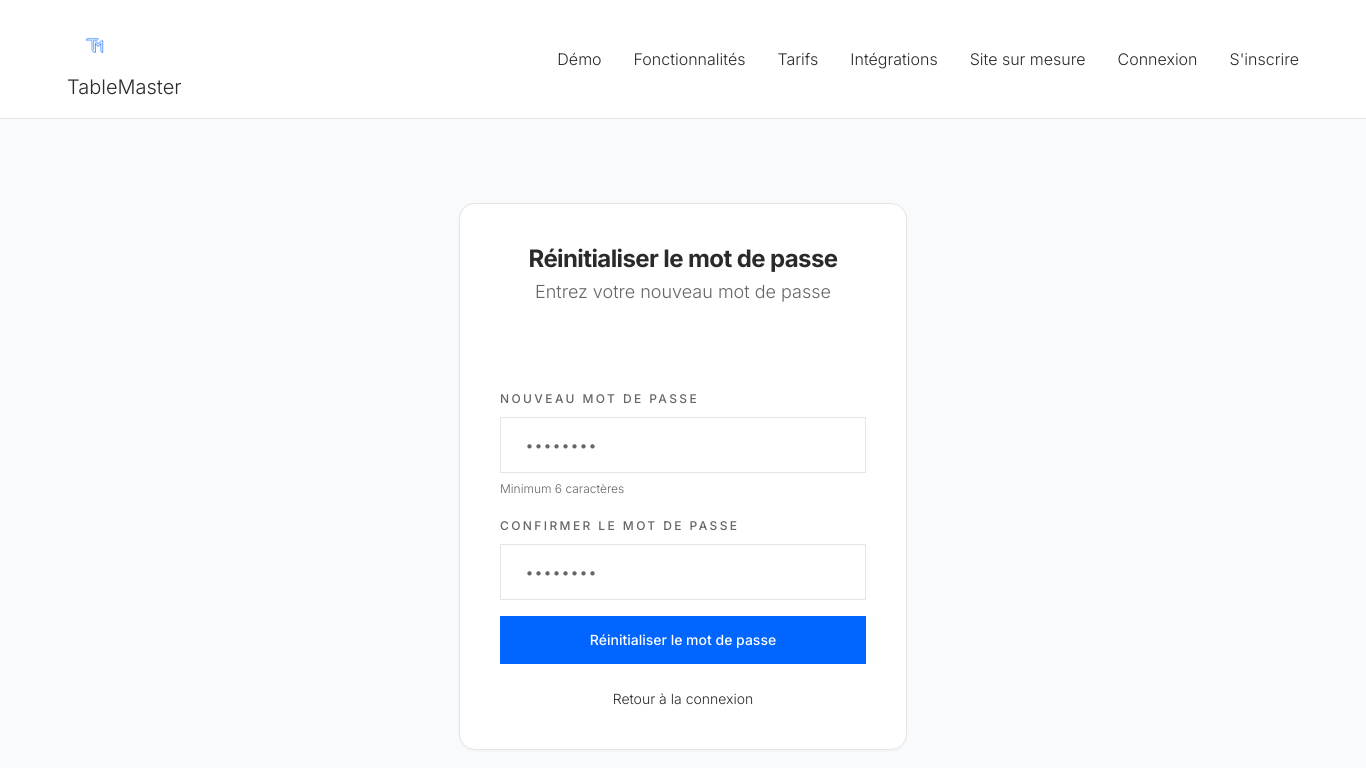
Test: Reset Password Page › should validate password confirmation
Type "newPassword123" into the password field with placeholder "••••••••" at coordinates (683, 444), box [500,416,866,472]
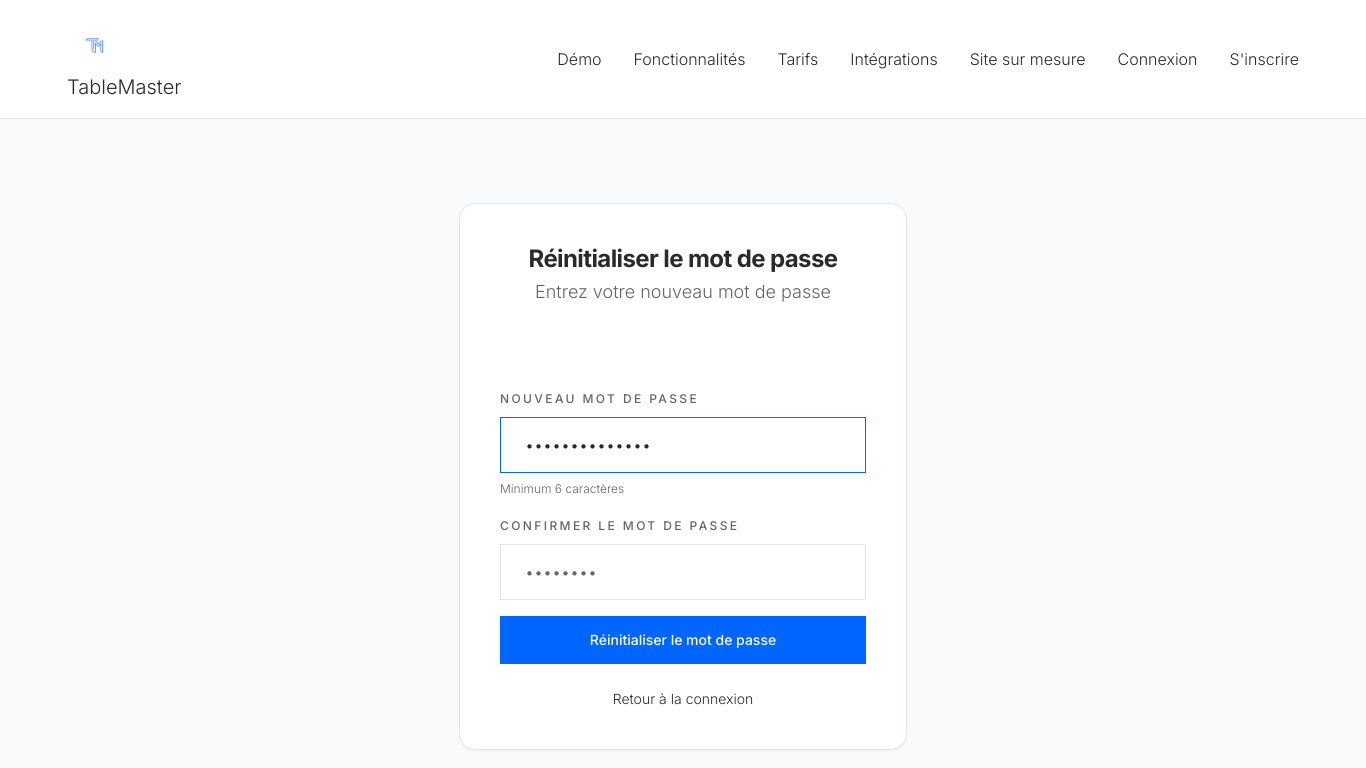
Type "differentPassword" into the password field with placeholder "••••••••" at coordinates (683, 572), box [500,544,866,600]
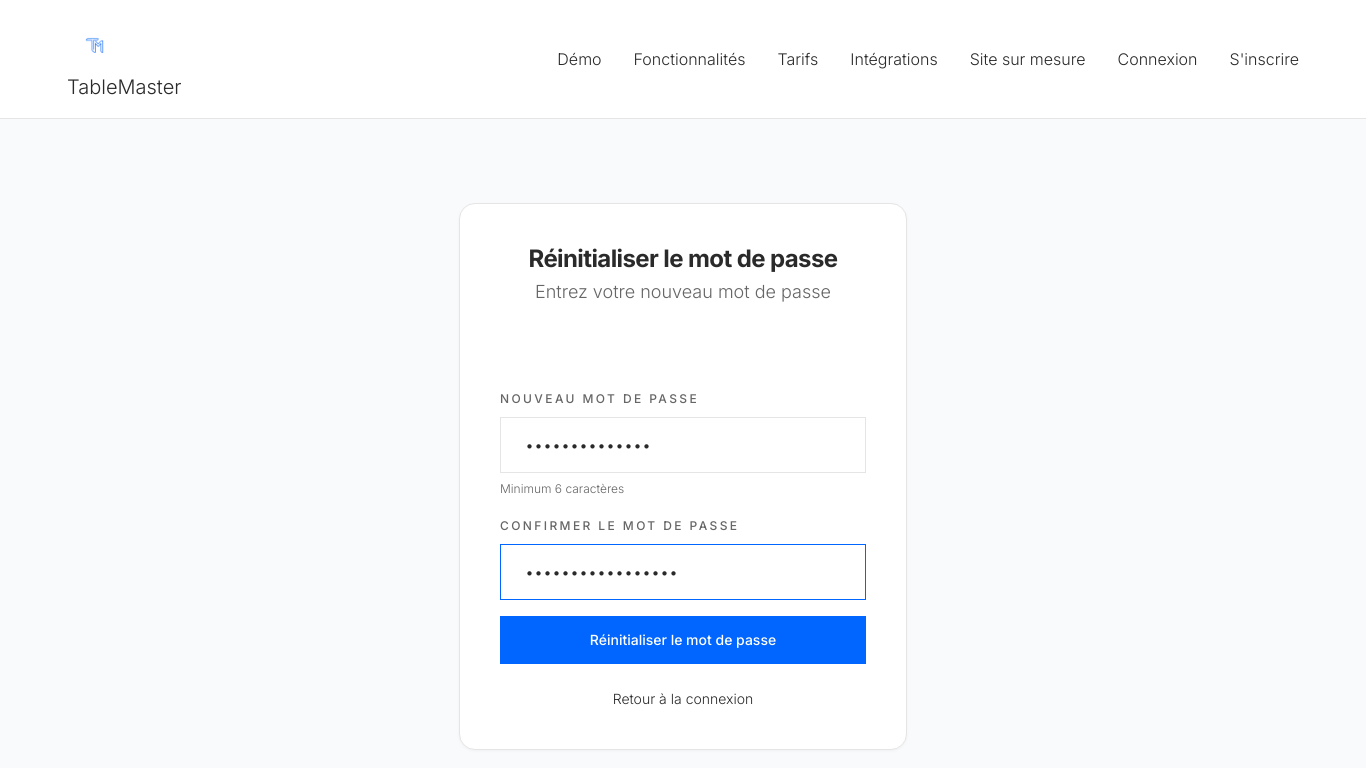
Submit the form with test id "reset-password-form", box [500,384,866,664]
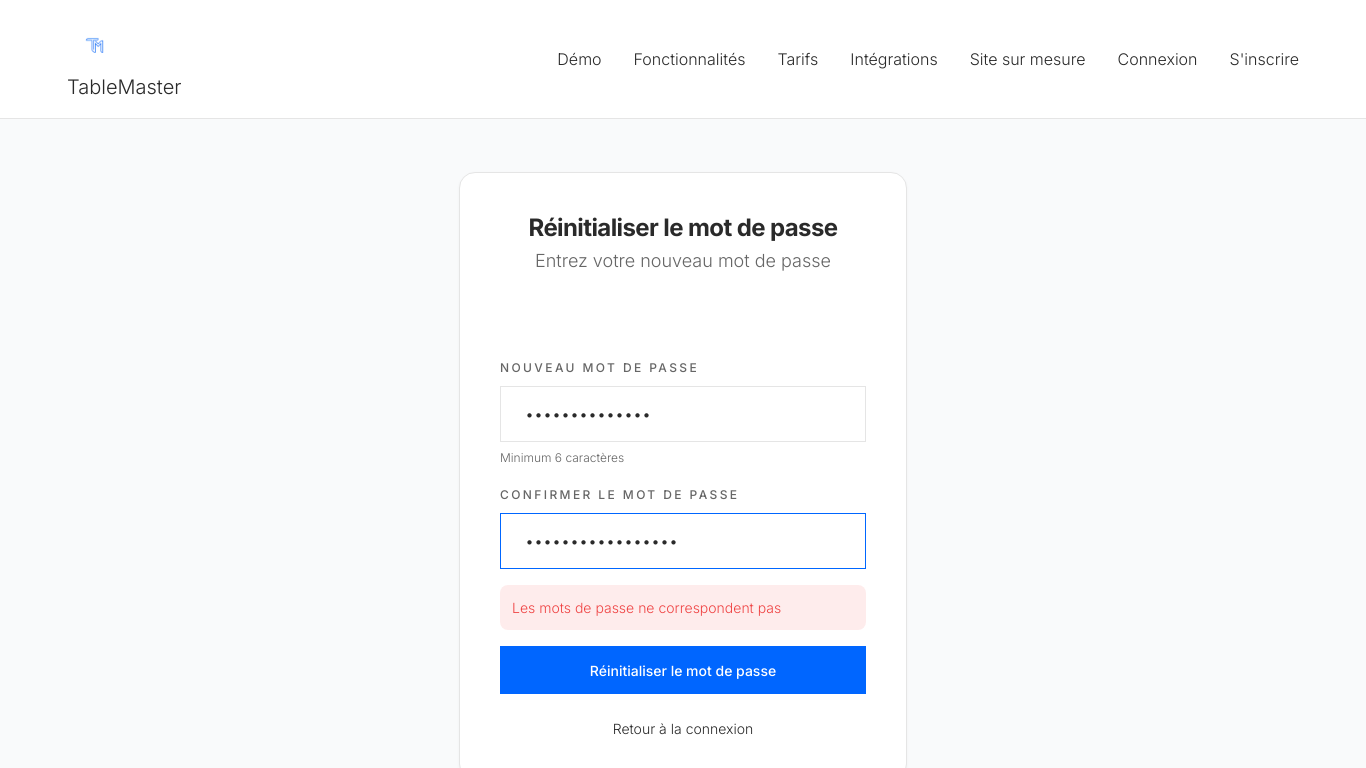
Expected: the text "Les mots de passe ne correspondent pas" is shown, [500,585,866,630]
